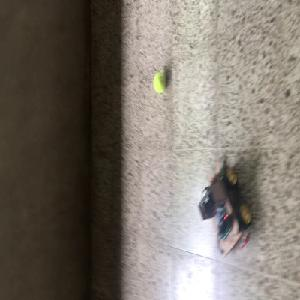Ball: (153, 73, 167, 92)
Robot: (197, 155, 252, 259)
